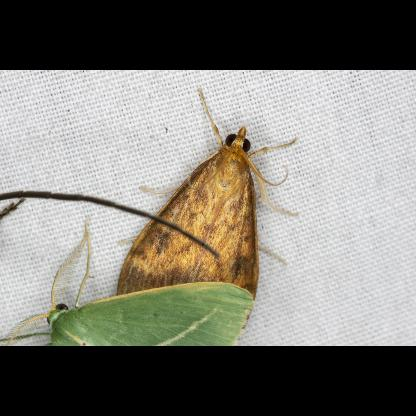Asian Corn Borer Moth: (114, 86, 302, 336), (0, 216, 258, 346)
